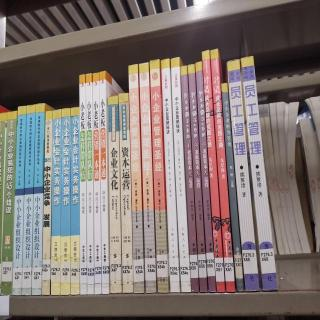book-spine: (238, 56, 278, 291), (224, 58, 259, 291), (209, 48, 236, 292), (200, 50, 227, 294), (193, 61, 218, 293), (219, 82, 246, 292), (168, 57, 191, 292), (147, 59, 170, 292), (136, 63, 157, 293), (179, 65, 200, 294), (187, 65, 207, 293), (161, 59, 179, 292), (127, 63, 145, 294), (103, 96, 123, 294), (0, 111, 18, 295), (117, 95, 133, 294), (97, 71, 111, 294), (13, 104, 28, 297), (21, 105, 36, 296), (32, 102, 44, 296), (92, 73, 102, 295), (42, 112, 54, 296), (50, 109, 61, 294), (78, 73, 87, 295), (61, 107, 71, 294), (86, 74, 94, 294), (71, 107, 80, 294)
